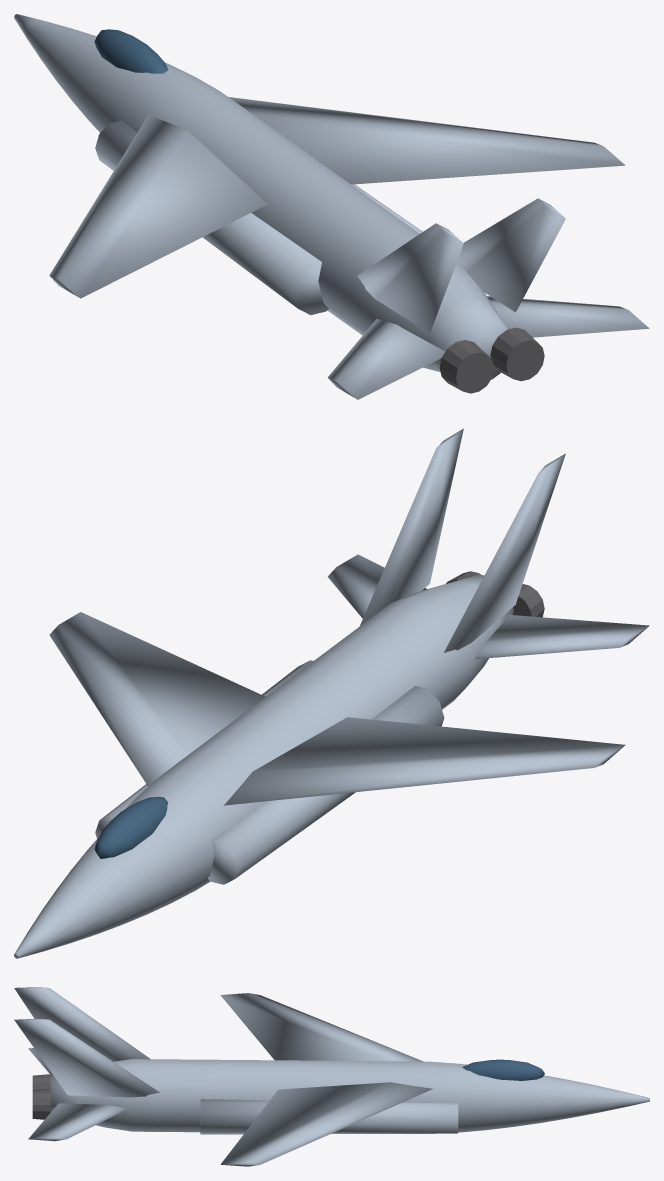
The picture shows the model from 3 angles, top to bottom: view 1: azimuth 30°, elevation 25°; view 2: azimuth 150°, elevation 25°; view 3: azimuth 270°, elevation 25°; orthographic projection. The views are drawn at different scales.
Visible parts, largest first — view 1: Body, Detail, Canopy; view 2: Body, Canopy, Detail; view 3: Body, Canopy, Detail.
Part boxes in pixels (x1=…): Body: x1=14, y1=14, x2=649, y2=399; Detail: x1=439, y1=327, x2=544, y2=393; Canopy: x1=94, y1=29, x2=167, y2=73; Body: x1=14, y1=428, x2=649, y2=958; Canopy: x1=94, y1=796, x2=168, y2=858; Detail: x1=446, y1=571, x2=544, y2=617; Body: x1=14, y1=987, x2=649, y2=1166; Canopy: x1=462, y1=1059, x2=544, y2=1080; Detail: x1=32, y1=1074, x2=50, y2=1119.
Size of the model in its own units: 1300 by 453 by 2059.
